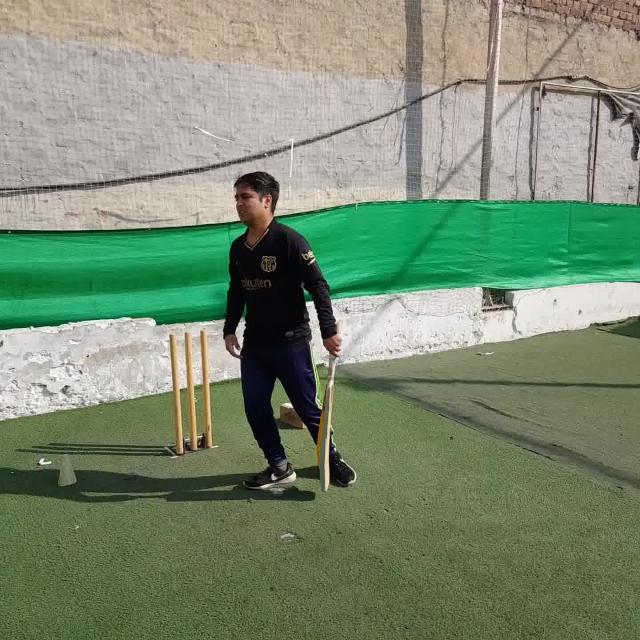bat: (317, 336, 342, 489)
